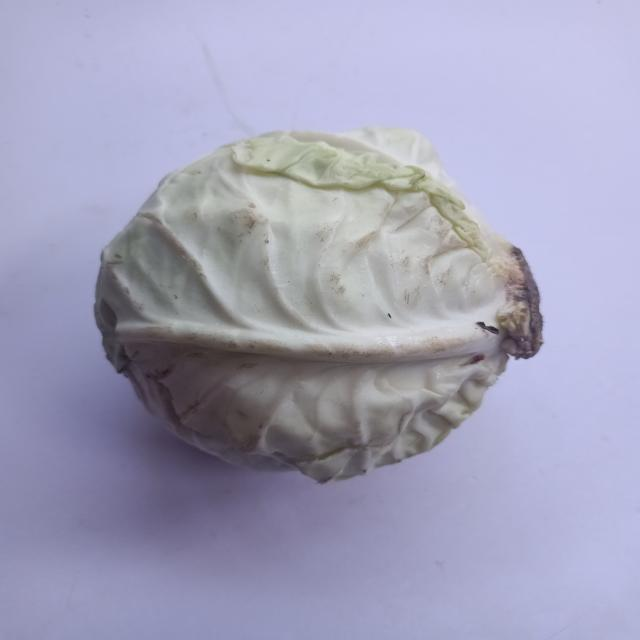Cabbage: (77, 123, 585, 500)
